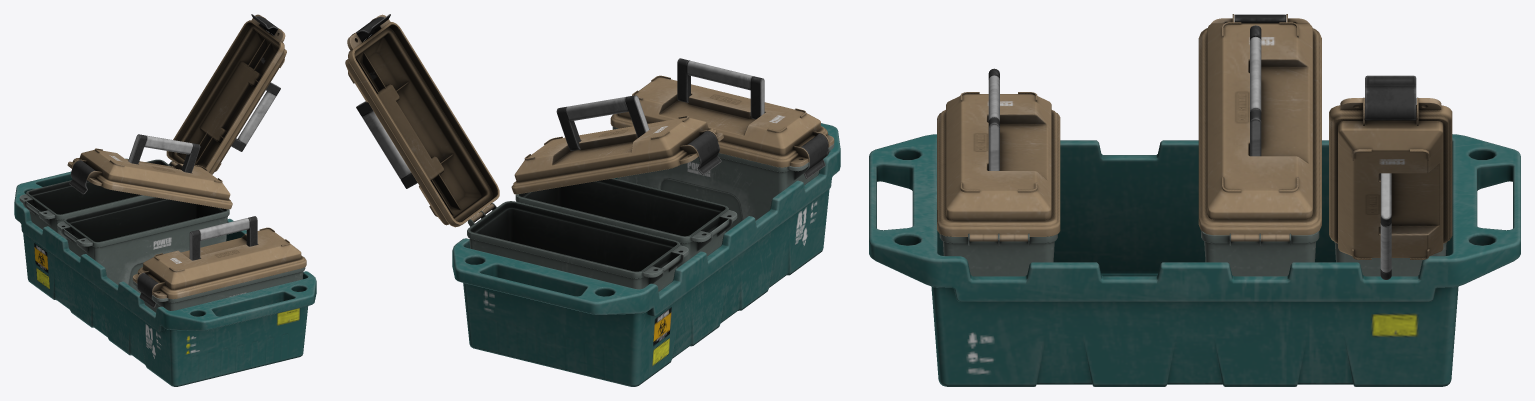
The model's file is SM_BulletCaseFull_Style03.fbx.
3 views of the same model, side by side, from view 1: azimuth 30°, elevation 25°; view 2: azimuth 150°, elevation 25°; view 3: azimuth 270°, elevation 25° (orthographic). The views are drawn at different scales.
Parts seen in each view (by area): view 1: SM_BulletCaseFull_Style03_LOD0; view 2: SM_BulletCaseFull_Style03_LOD0; view 3: SM_BulletCaseFull_Style03_LOD0.
Boxes of the visible parts, x1=… form: SM_BulletCaseFull_Style03_LOD0: x1=14, y1=14, x2=316, y2=386; SM_BulletCaseFull_Style03_LOD0: x1=345, y1=14, x2=840, y2=386; SM_BulletCaseFull_Style03_LOD0: x1=869, y1=14, x2=1520, y2=386.
Bounding box in the file's own units: 78.91 × 104 × 67.4.
2 materials, 2 textured.
